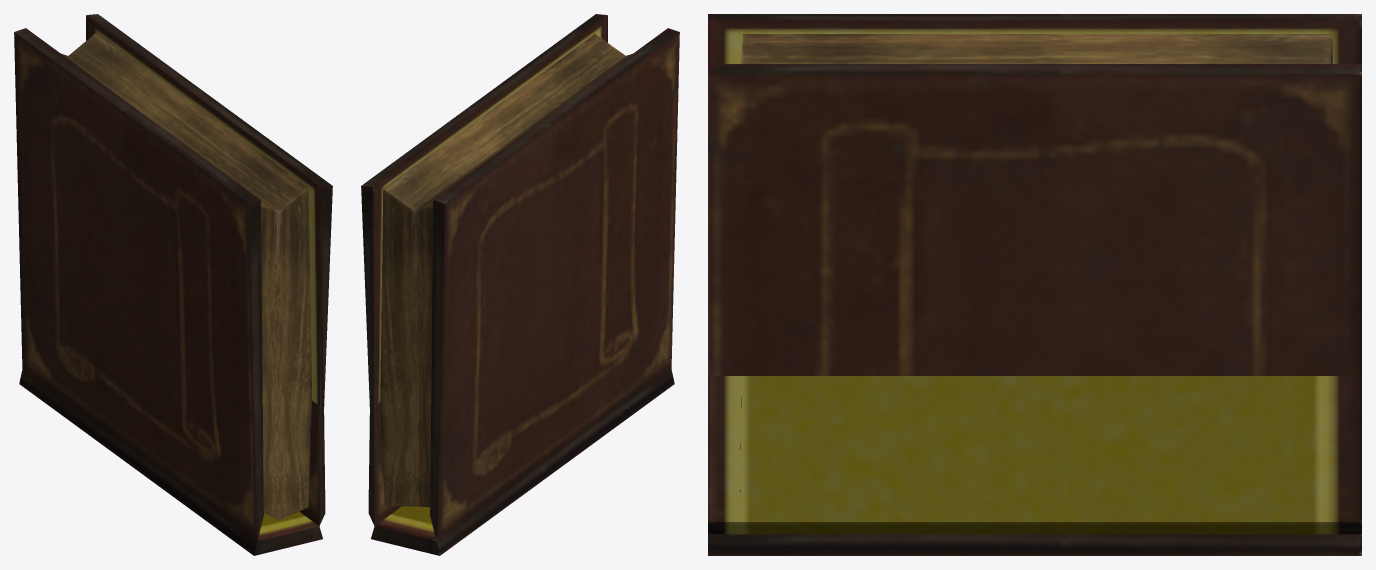
The model's file is OpenBookSample_ModellingMk1.fbx.
The picture shows the model from 3 angles, left to right: view 1: azimuth 30°, elevation 25°; view 2: azimuth 150°, elevation 25°; view 3: azimuth 270°, elevation 25°; orthographic projection. The views are drawn at different scales.
Visible parts, largest first — view 1: Grimoire.002, Grimoire.001, Grimoire; view 2: Grimoire.002, Grimoire.001, Grimoire; view 3: Grimoire.001, Grimoire.002, Grimoire.
Boxes of the visible parts, x1,y1,x2,y2 form: Grimoire.002: (14,28,279,540); Grimoire.001: (68,14,332,525); Grimoire: (19,369,322,555); Grimoire.002: (414,28,679,540); Grimoire.001: (361,14,625,525); Grimoire: (371,369,674,555); Grimoire.001: (708,64,1361,534); Grimoire.002: (708,14,1361,63); Grimoire: (708,534,1361,555).
Bounding box in the file's own units: 11.77 × 47.54 × 57.13.
